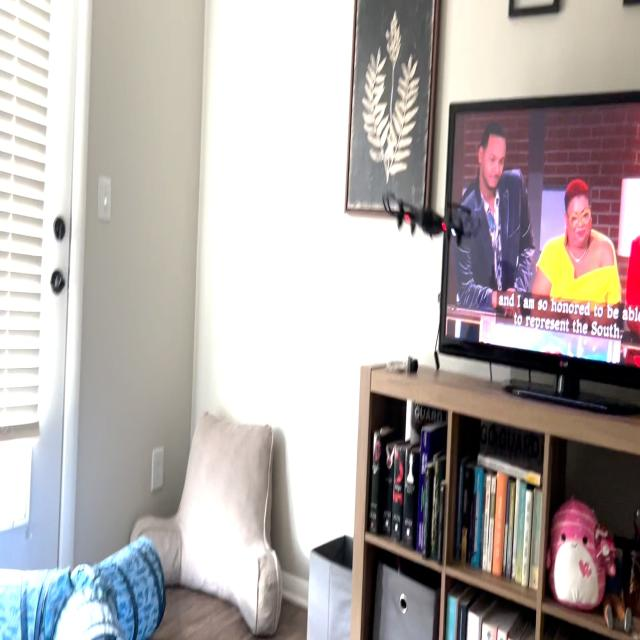drone: (376, 169, 482, 259)
